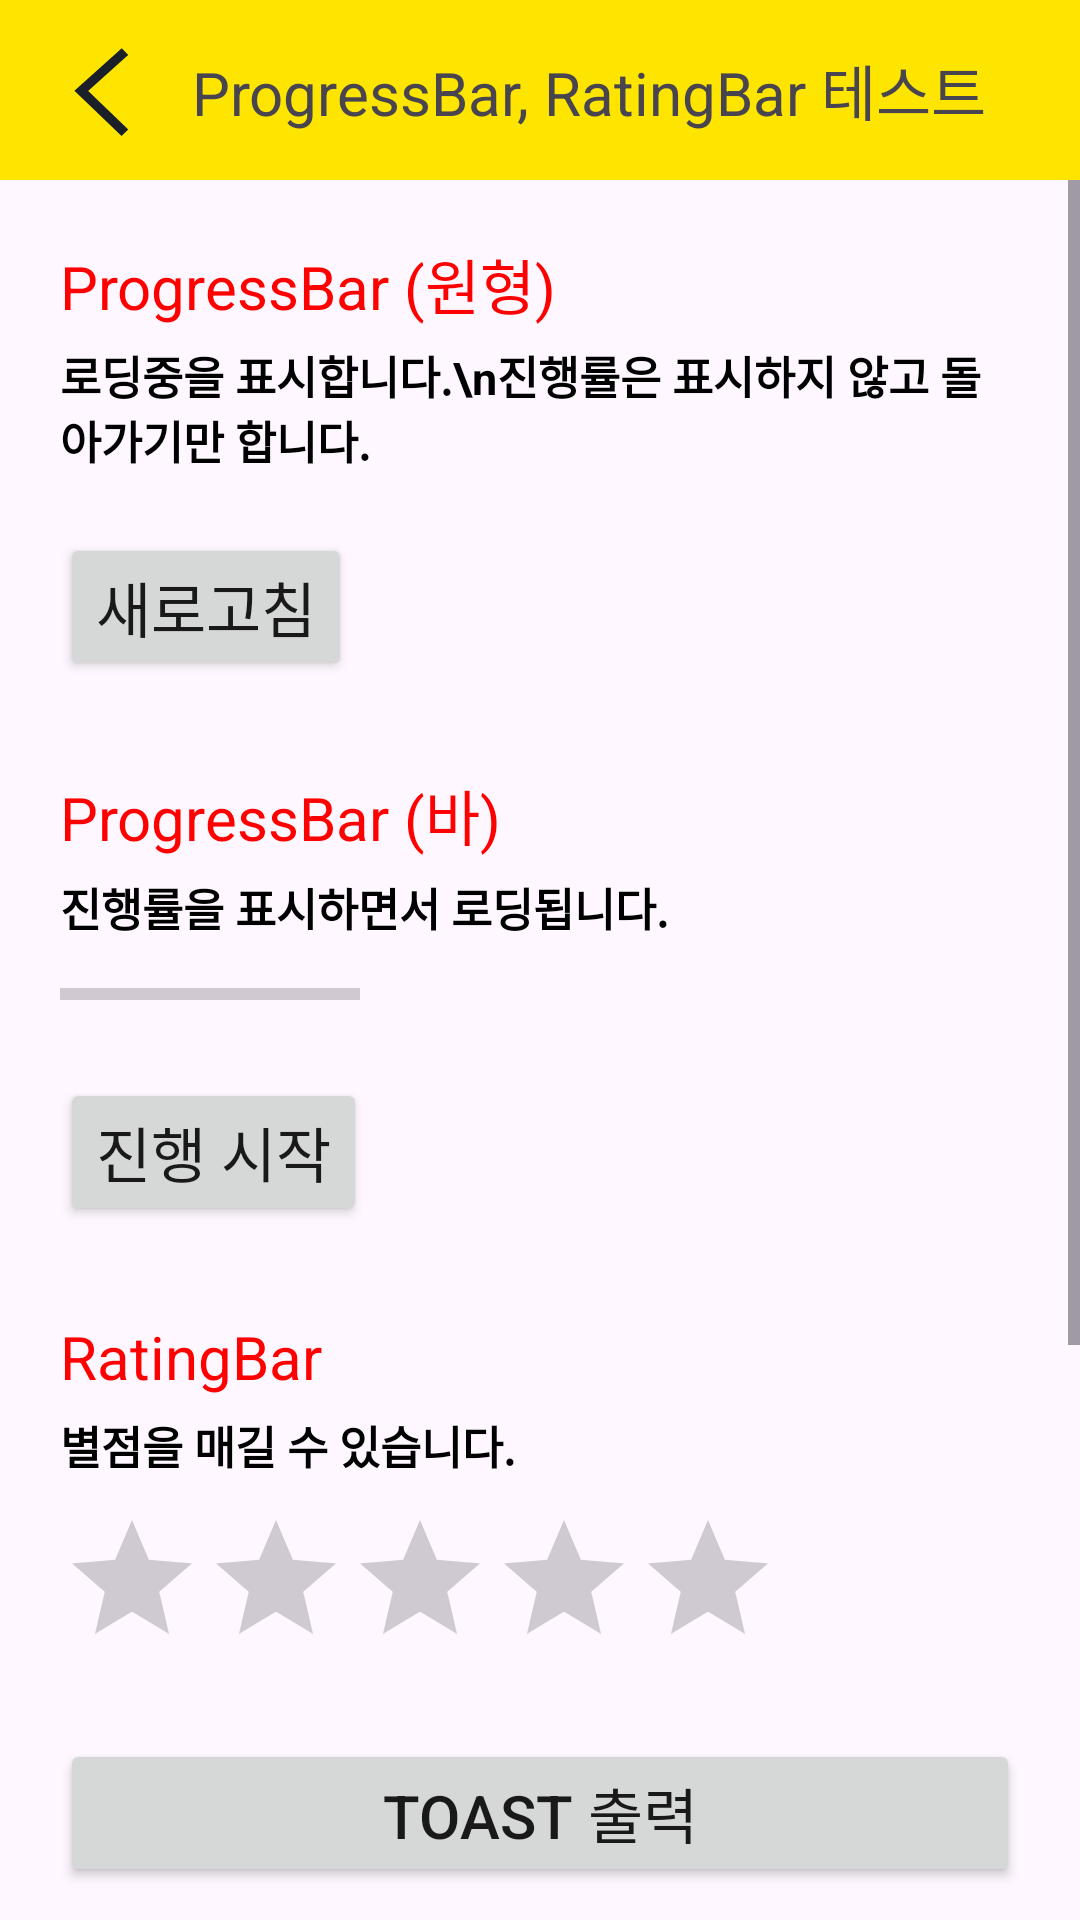

Where icons sit on this 1080*1920 app screen, as (x1, y1, x2, y2):
뒤로가기: (74, 48, 128, 136)
